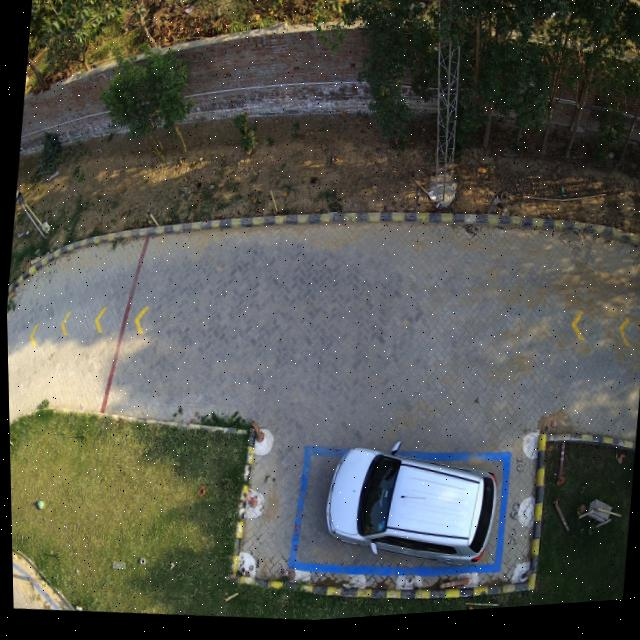car: (322, 449, 496, 574)
